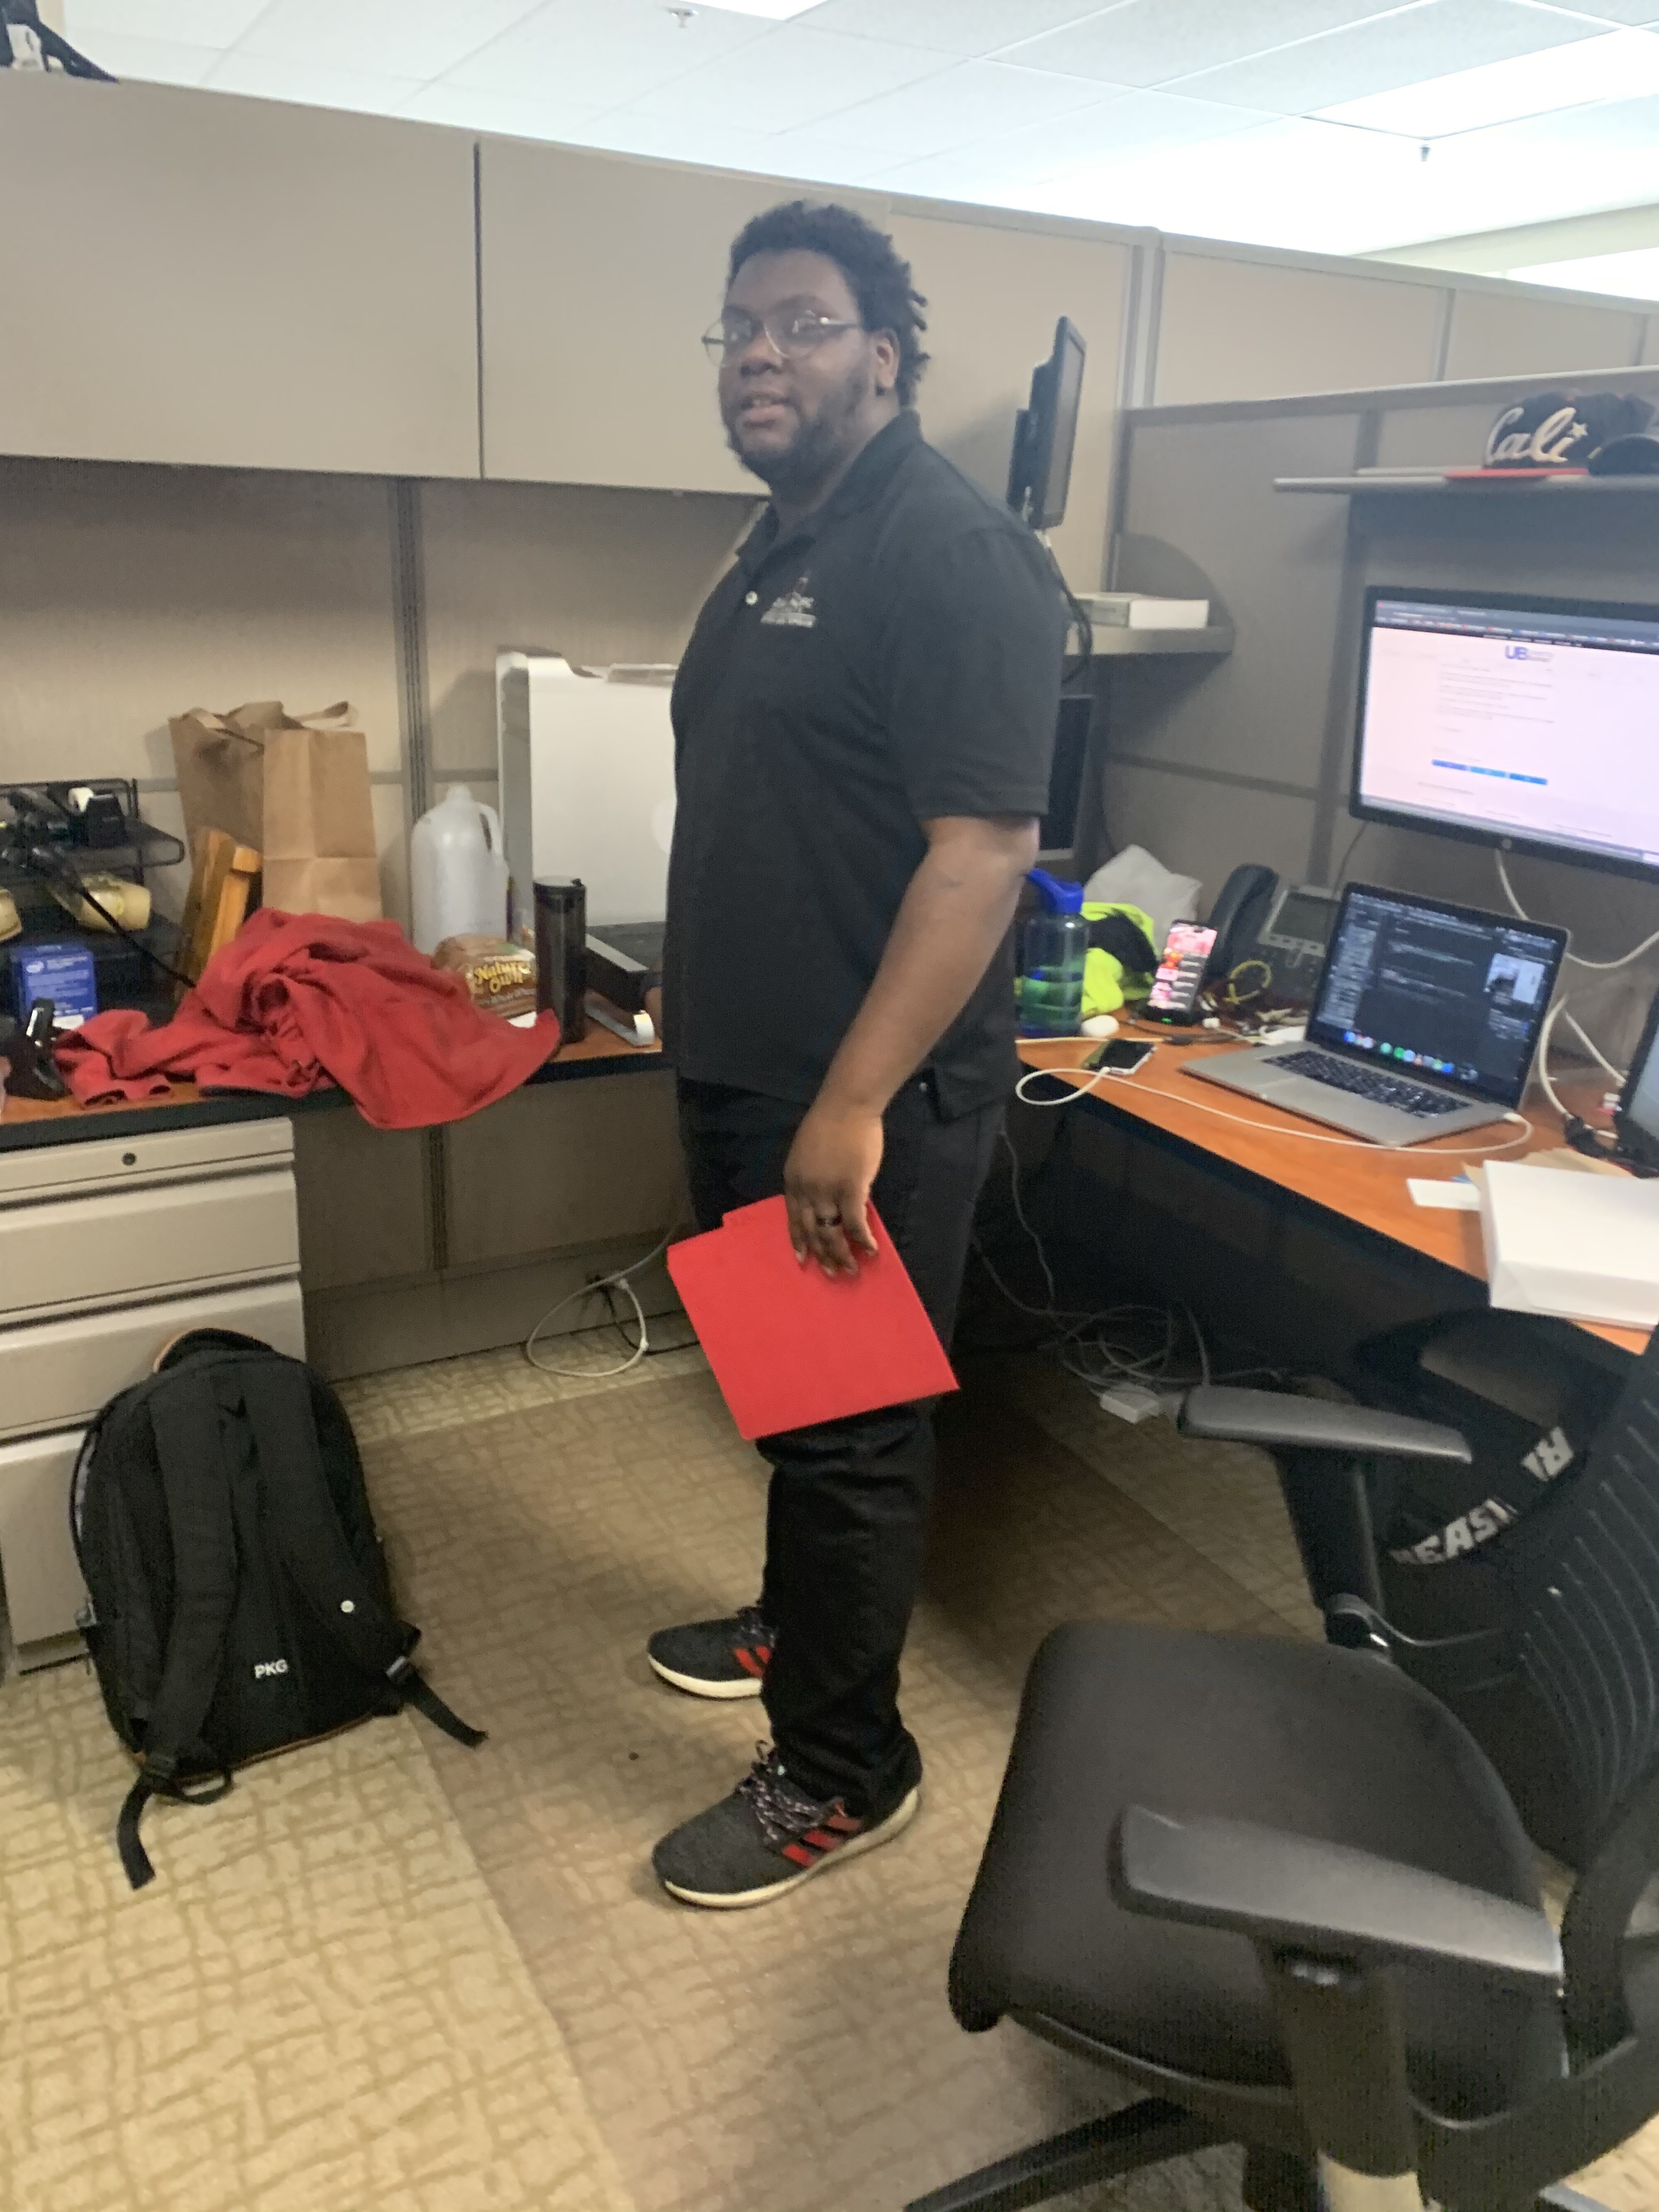red folder: (638, 1190, 995, 1432)
